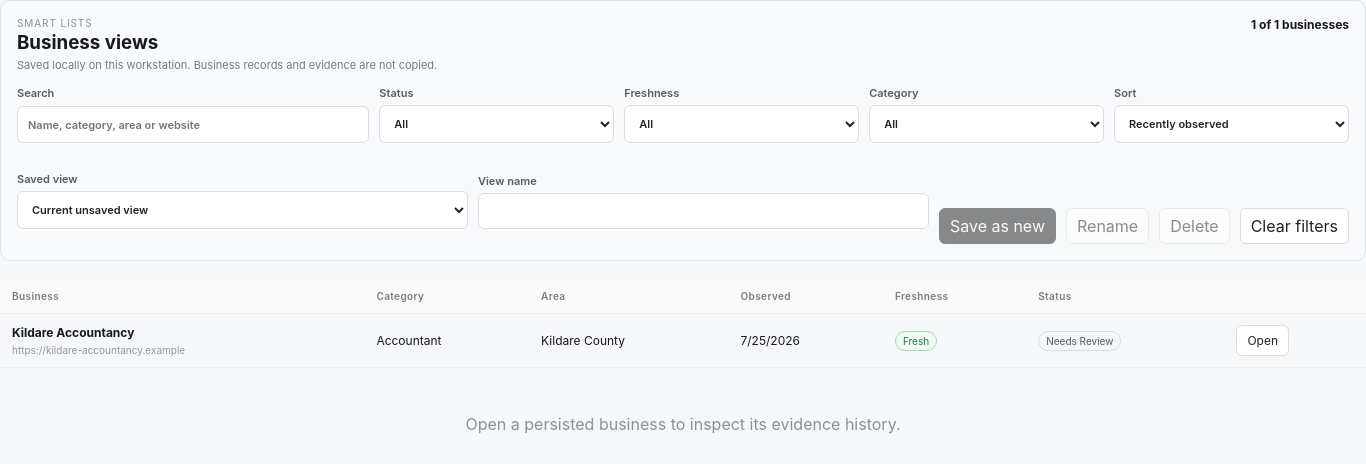
Test: BusinessWorkspace › keeps the business list available when detail loading fails
Click the button "Open".
click(1263, 340)  # box x1=1236 y1=325 x2=1289 y2=356
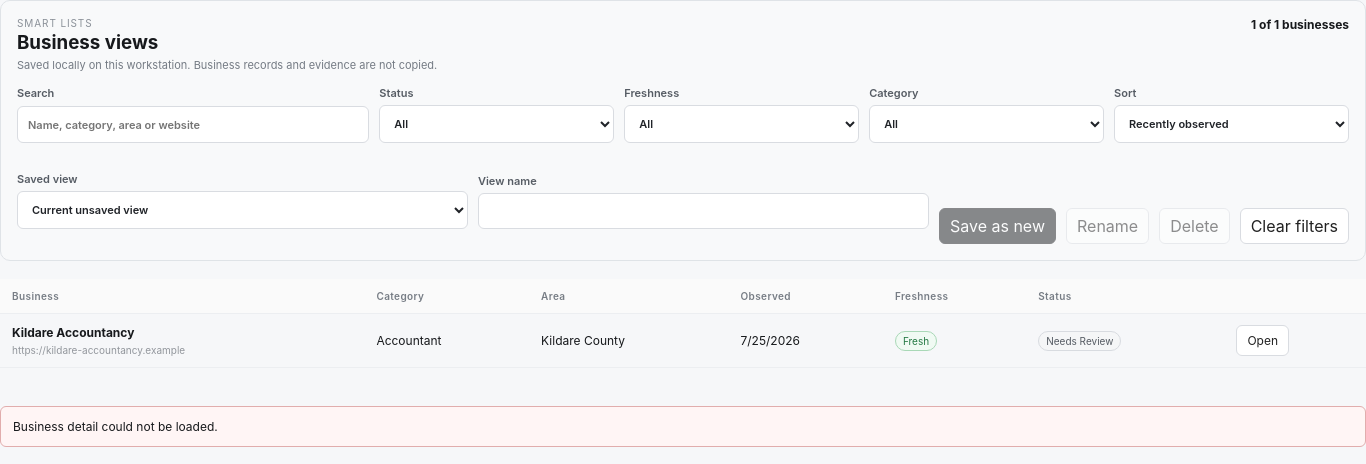
Expected: the text "Kildare Accountancy" is shown, x1=12 y1=325 x2=134 y2=340
Result: the text "Business detail could not be loaded." is shown at x1=0 y1=406 x2=1365 y2=447
